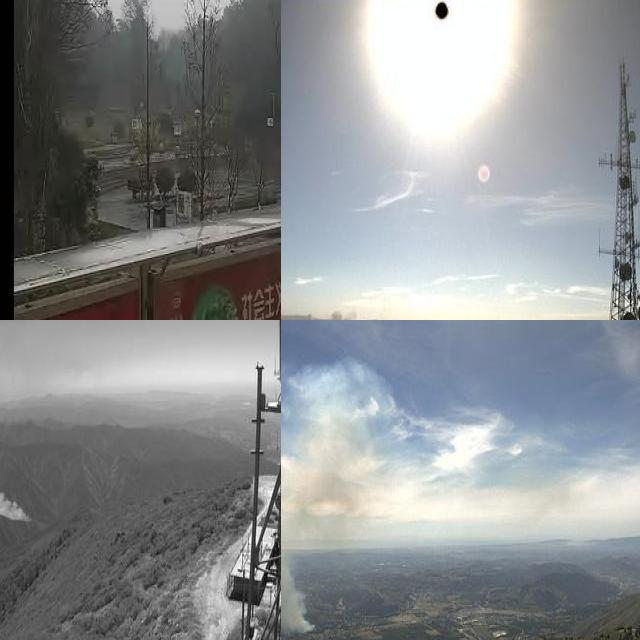smoke: (281, 417, 372, 633), (281, 301, 379, 320)
